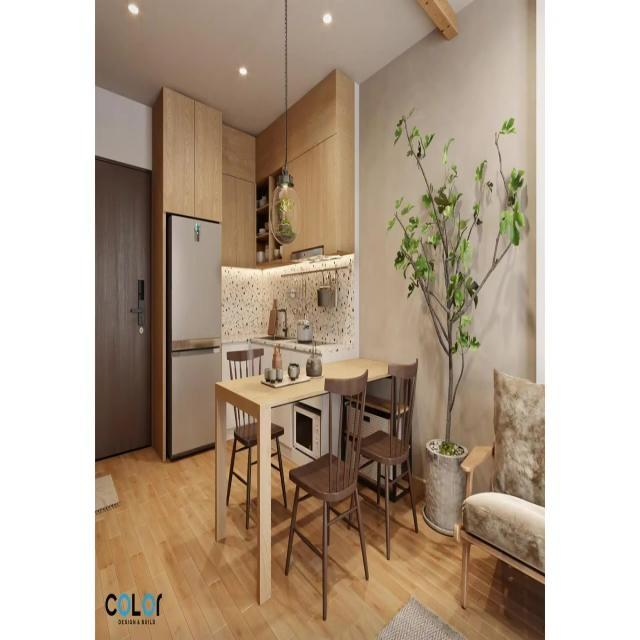door: (95, 156, 152, 460)
obstacle: (214, 357, 392, 606), (453, 366, 545, 611), (284, 368, 370, 620), (343, 357, 419, 560), (166, 212, 222, 460), (226, 347, 286, 529)
